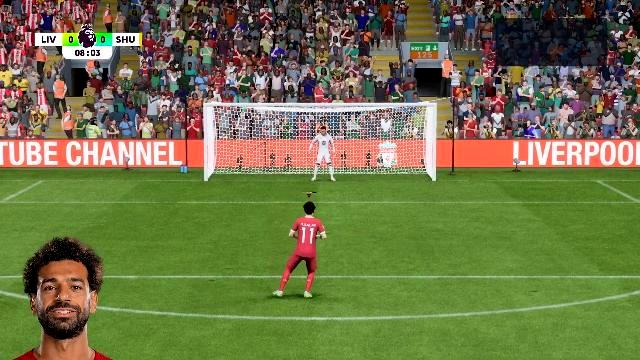bottom-left: (210, 143, 288, 181)
bottom-right: (359, 142, 433, 182)
center-down: (289, 142, 359, 182)
center-up: (289, 106, 359, 142)
goalkeeper: (310, 127, 340, 183)
player: (270, 201, 326, 301)
top-left: (210, 106, 288, 142)
top-right: (359, 107, 433, 141)
